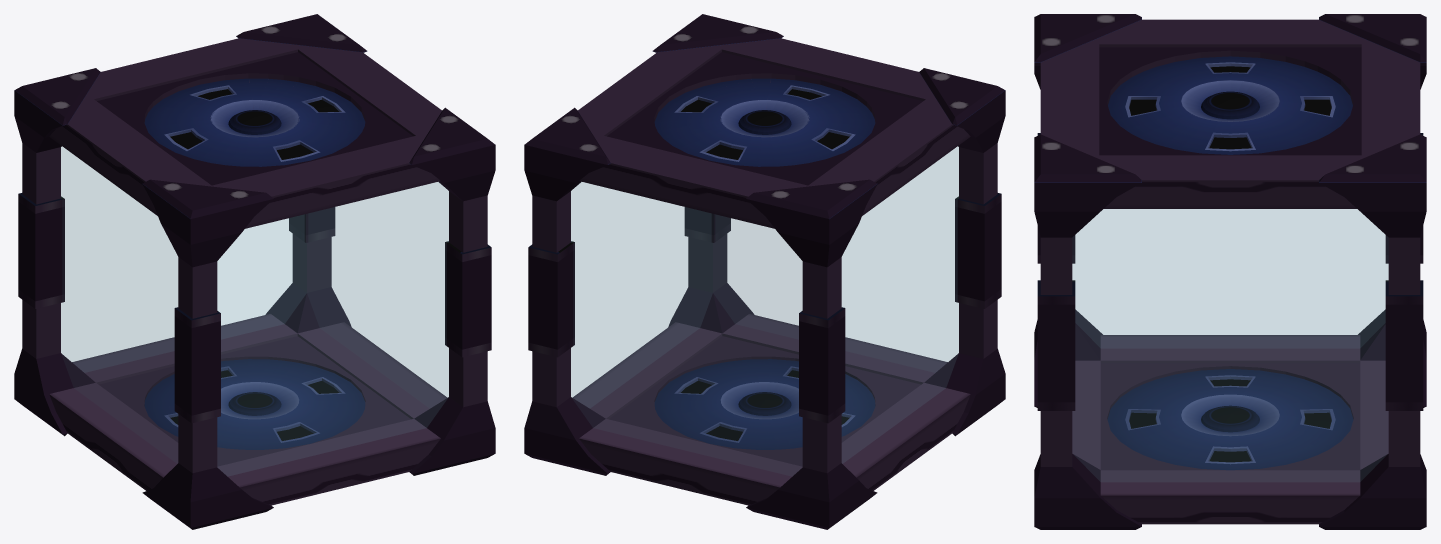
File: health_crate.glb
3 renders of one model, left to right at view 1: azimuth 30°, elevation 25°; view 2: azimuth 150°, elevation 25°; view 3: azimuth 270°, elevation 25°, orthographic. The views are drawn at different scales.
Parts seen in each view (by area): view 1: HealthCrate; view 2: HealthCrate; view 3: HealthCrate.
Boxes of the visible parts, x1,y1,x2,y2 form: HealthCrate: [14, 14, 495, 529]; HealthCrate: [524, 14, 1005, 529]; HealthCrate: [1034, 14, 1426, 529].
Bounding box in the file's own units: 1.24 × 1.24 × 1.24.
2 materials, 1 textured.
